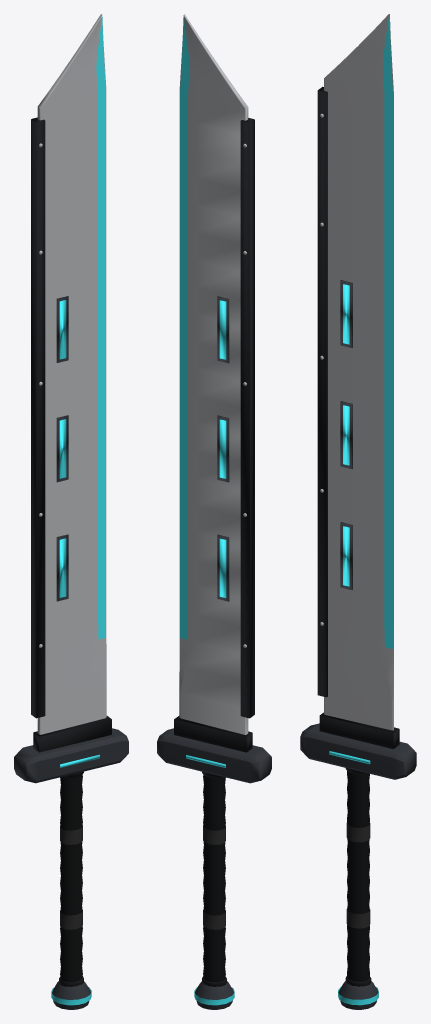
File: gear_neon_cleaver.glb
3 views of the same model, side by side, from view 1: azimuth 30°, elevation 25°; view 2: azimuth 150°, elevation 25°; view 3: azimuth 330°, elevation 25° (orthographic).
Visible parts, largest first — view 1: gear_neon_cleaver; view 2: gear_neon_cleaver; view 3: gear_neon_cleaver.
Boxes of the visible parts, bbox=[...] form: gear_neon_cleaver: bbox=[14, 14, 128, 1009]; gear_neon_cleaver: bbox=[157, 14, 271, 1009]; gear_neon_cleaver: bbox=[300, 14, 416, 1009].
Size of the model in its own units: 0.18 by 1.65 by 0.0603.
